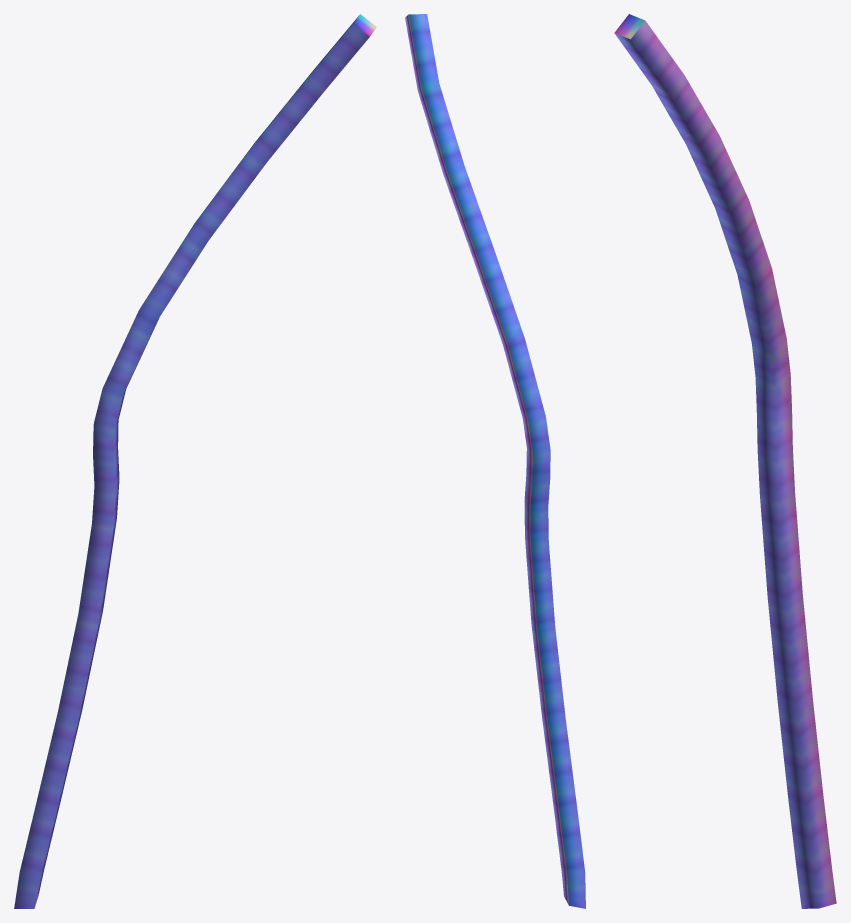
The model's file is ship_debris_05_part_25.glb.
3 views of the same model, side by side, from view 1: azimuth 30°, elevation 25°; view 2: azimuth 150°, elevation 25°; view 3: azimuth 270°, elevation 25° (orthographic). The views are drawn at different scales.
Visible parts, largest first — view 1: ship_debris_05_part_25; view 2: ship_debris_05_part_25; view 3: ship_debris_05_part_25.
Boxes of the visible parts, left/top/right/bottom form: ship_debris_05_part_25: left=14, top=14, right=376, bottom=908; ship_debris_05_part_25: left=405, top=14, right=585, bottom=908; ship_debris_05_part_25: left=614, top=14, right=836, bottom=908.
Bounding box in the file's own units: 1.13 × 3.37 × 0.6532.
Materials: 1 (1 with a texture image).
